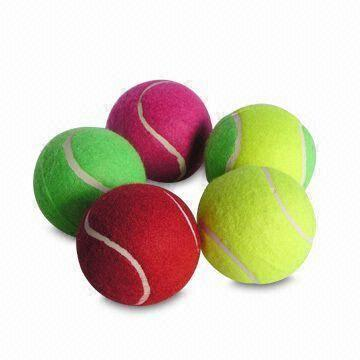red ball: (75, 181, 204, 308)
